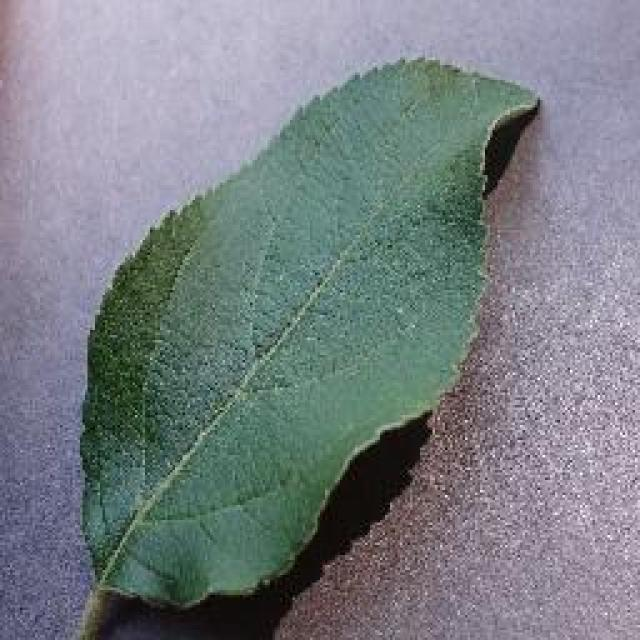Apple___healthy: (77, 53, 540, 615)
